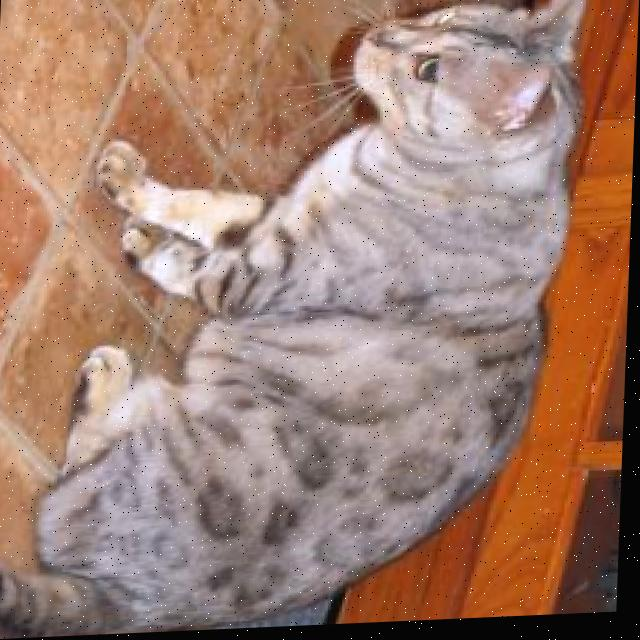Bengal: (0, 0, 608, 640)
